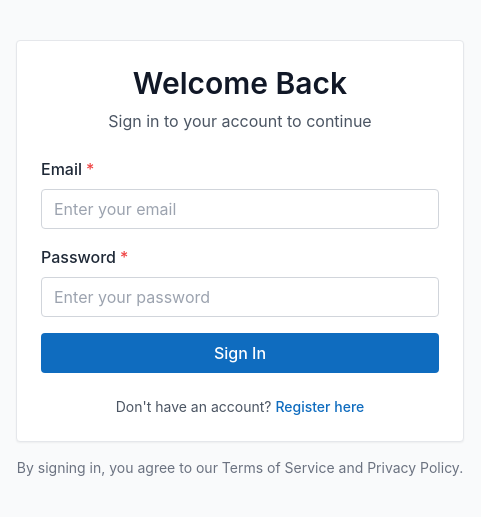
it: LoginPage › Form Validation › should clear field error when user types
This screenshot has width=481, height=517.
Note: Trigger validation error
Click the button "Sign In": (240, 353) 41,333 -> 439,373
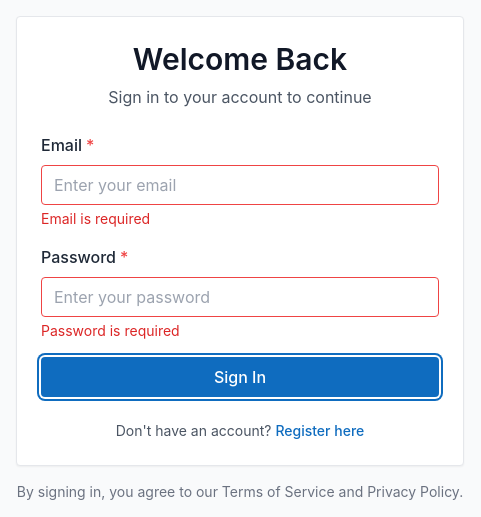
Check: the text "Email is required" is shown, box 41,210 -> 150,227
Note: Type in email field
In the field labelled "Email*": (240, 185) 41,165 -> 439,205, type "test@example.com"
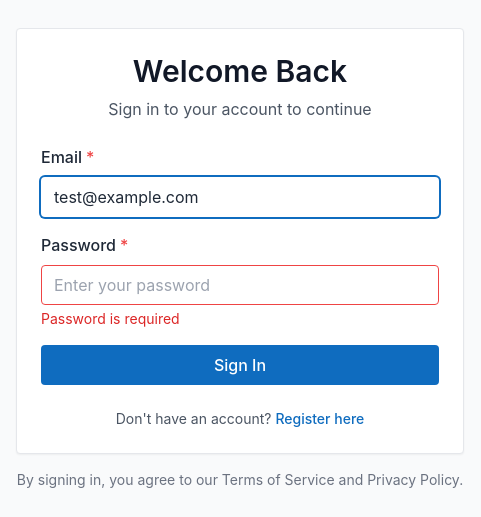
Check: the text "Email is required" is gone
